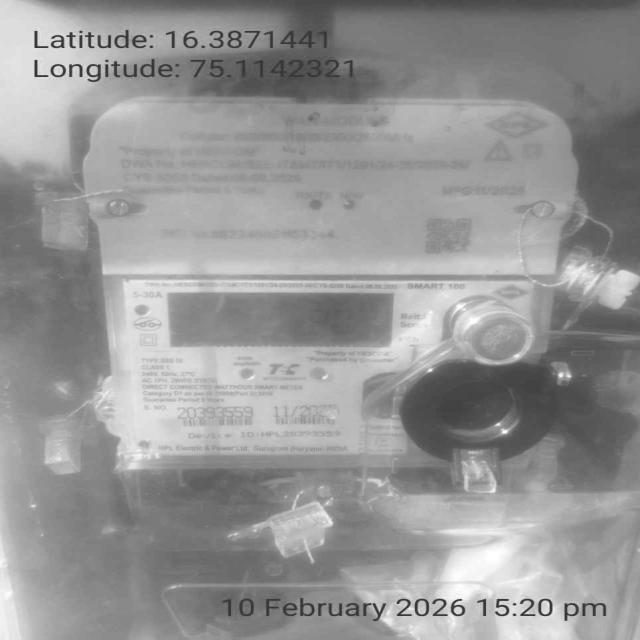meter: (93, 102, 560, 469)
